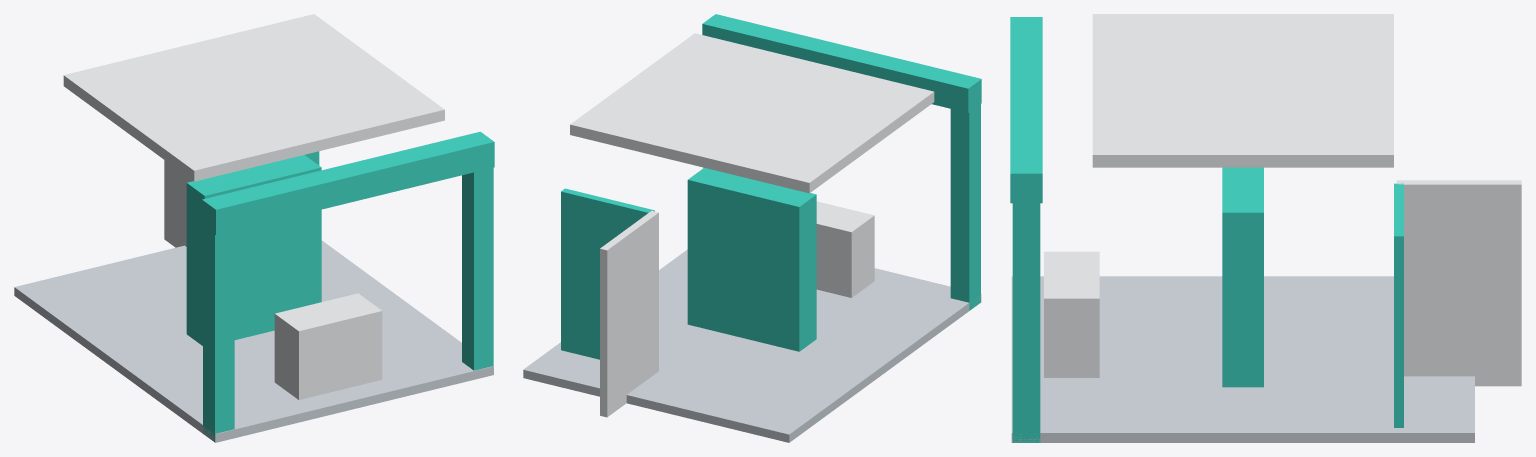
3 renders of one model, left to right at view 1: azimuth 30°, elevation 25°; view 2: azimuth 150°, elevation 25°; view 3: azimuth 270°, elevation 25°, orthographic. The views are drawn at different scales.
Parts seen in each view (by area): view 1: Exhibition Booth Concept; view 2: Exhibition Booth Concept; view 3: Exhibition Booth Concept.
Boxes of the visible parts, x1,y1,x2,y2 form: Exhibition Booth Concept: (14, 14, 494, 442); Exhibition Booth Concept: (523, 14, 981, 442); Exhibition Booth Concept: (1010, 14, 1521, 442).
Bounding box in the file's own units: 4 × 3.34 × 5.52.
